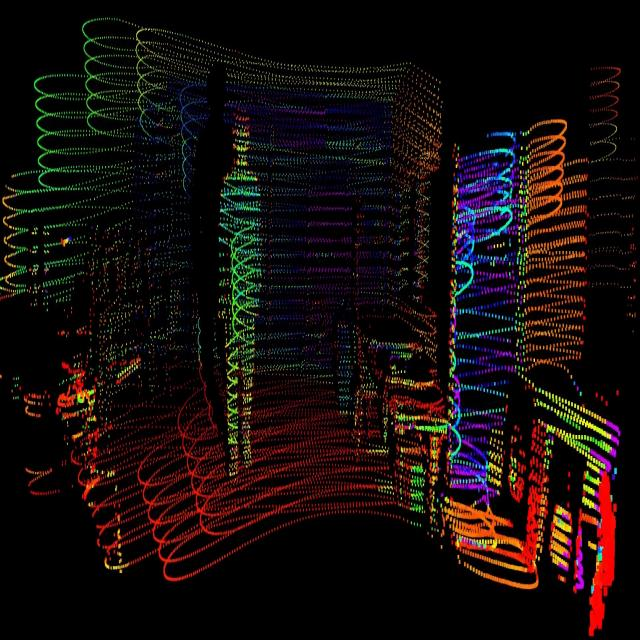human: (212, 96, 265, 483)
